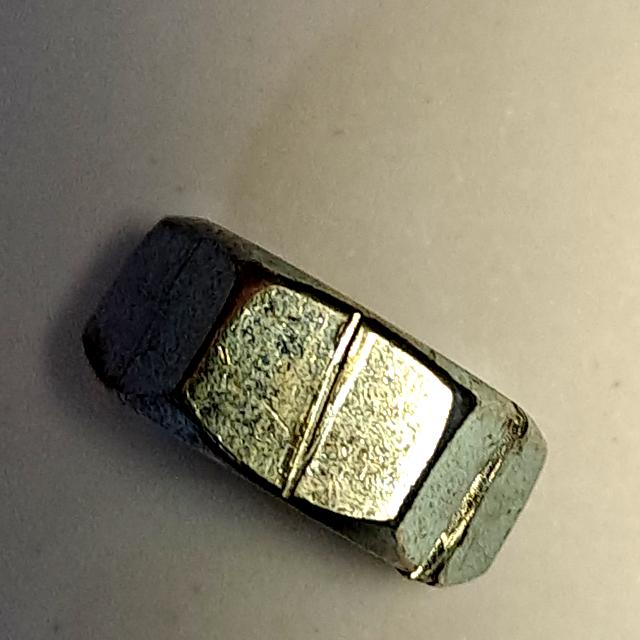Side_Scratches: (70, 205, 563, 604)
